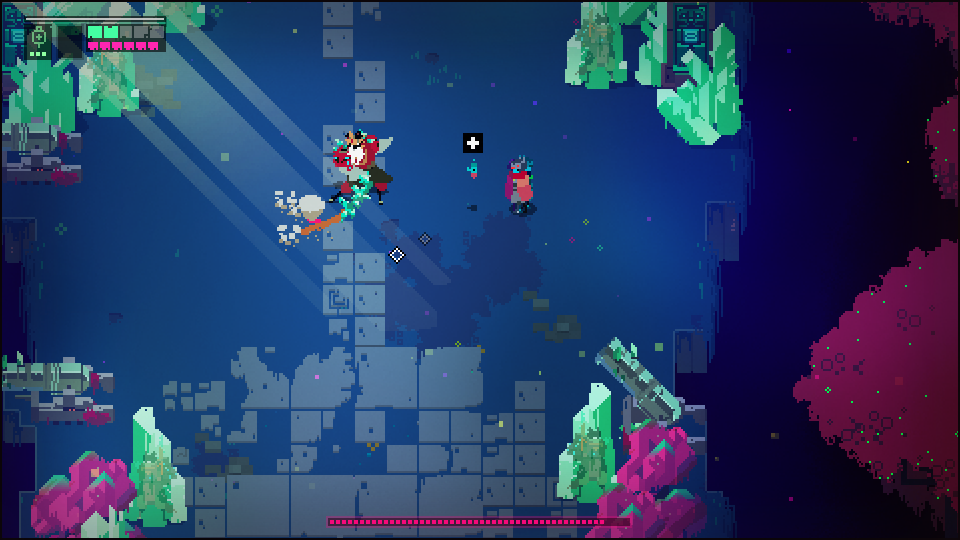hanged_man: (316, 129, 400, 234)
player: (504, 152, 536, 213)
